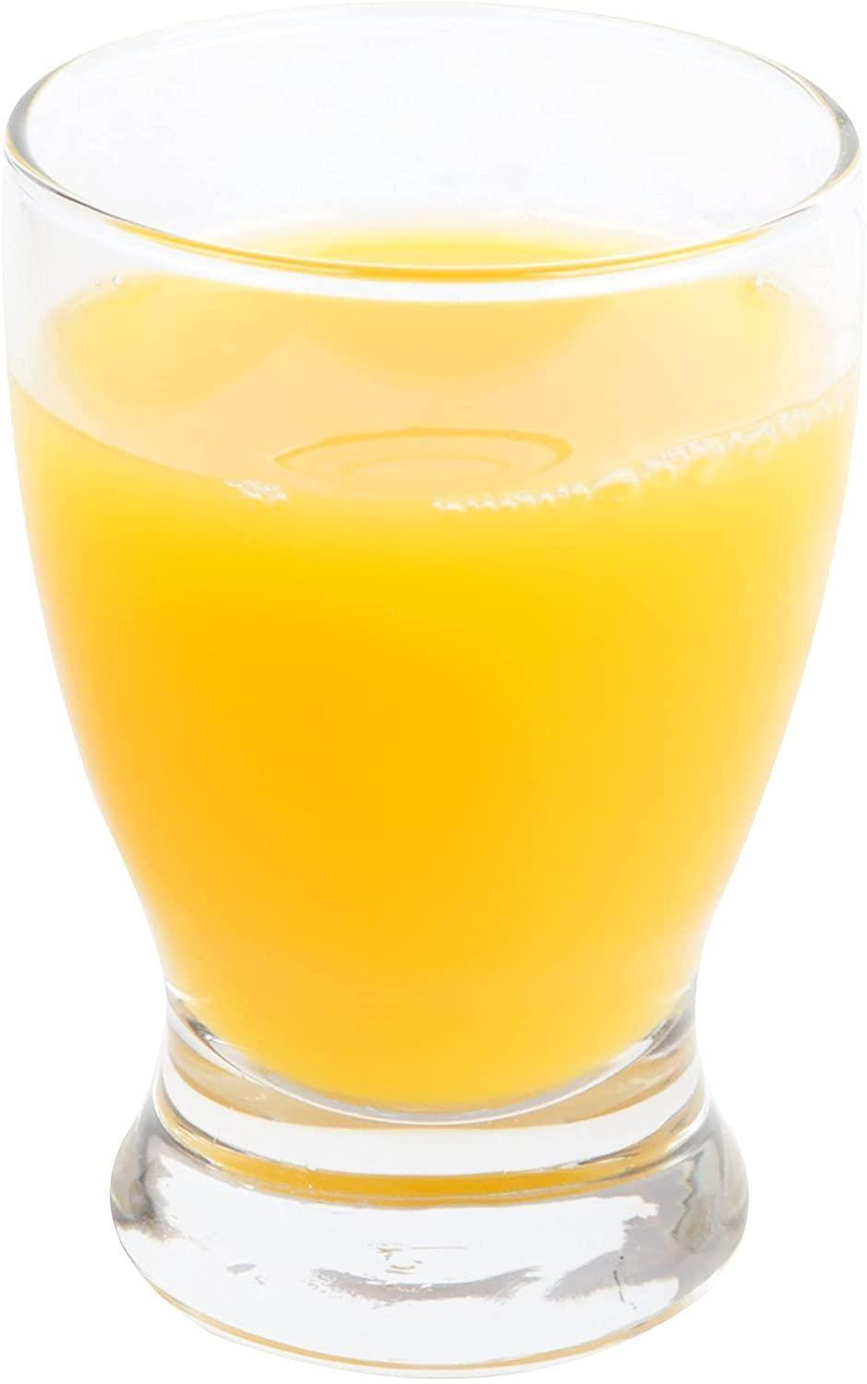glass-normal: (0, 1, 863, 1374)
